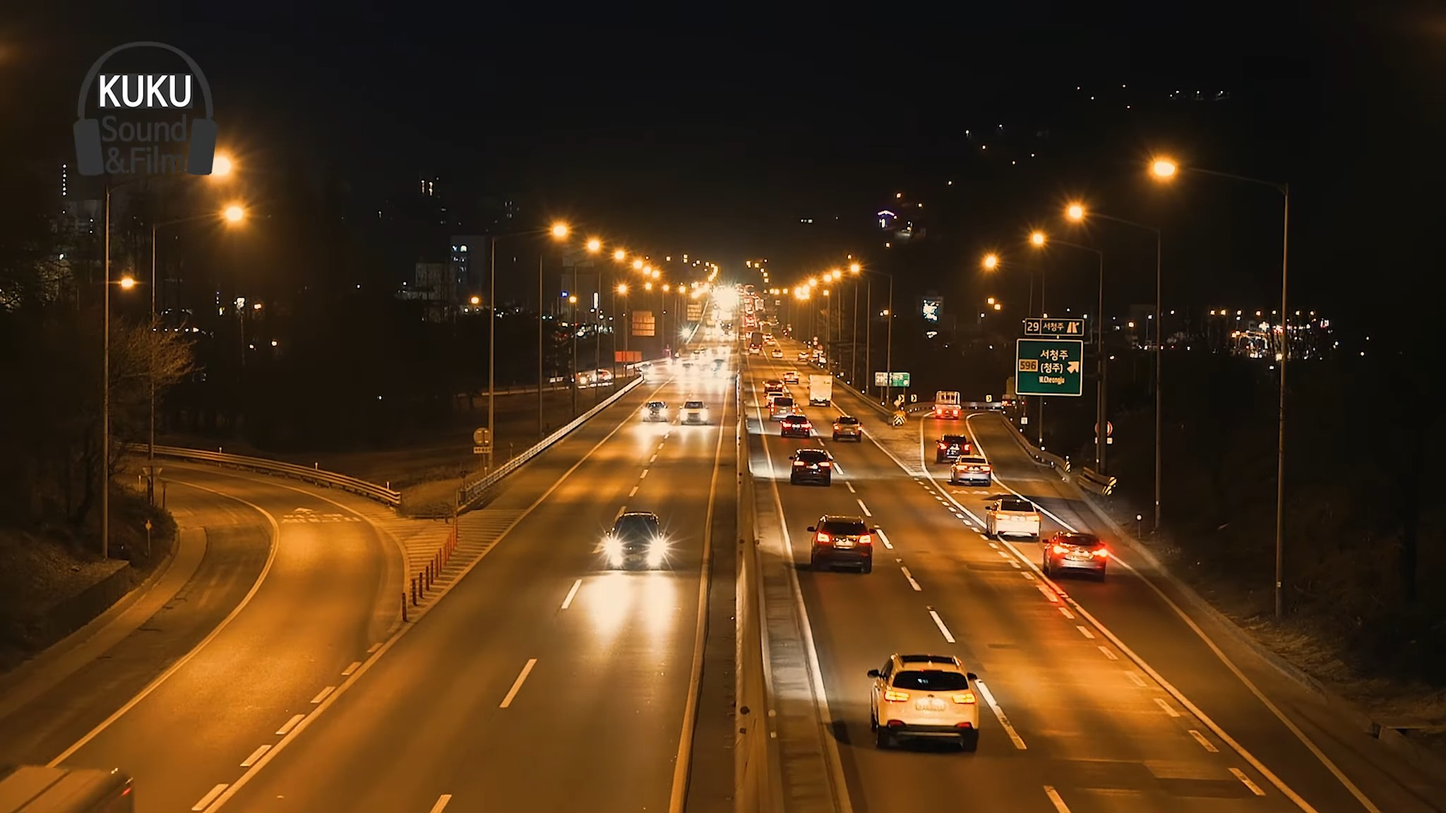car: (874, 648, 984, 744), (809, 514, 881, 577), (600, 510, 667, 570), (1049, 530, 1116, 579), (982, 494, 1044, 542), (788, 445, 836, 487), (946, 456, 990, 491)
